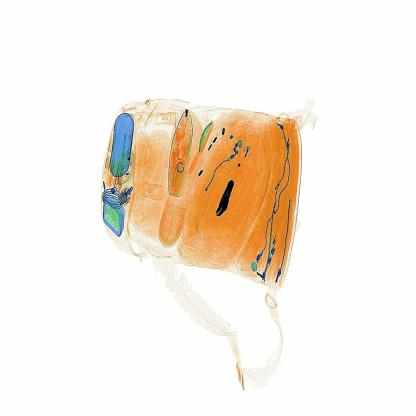knife: (210, 173, 242, 221)
